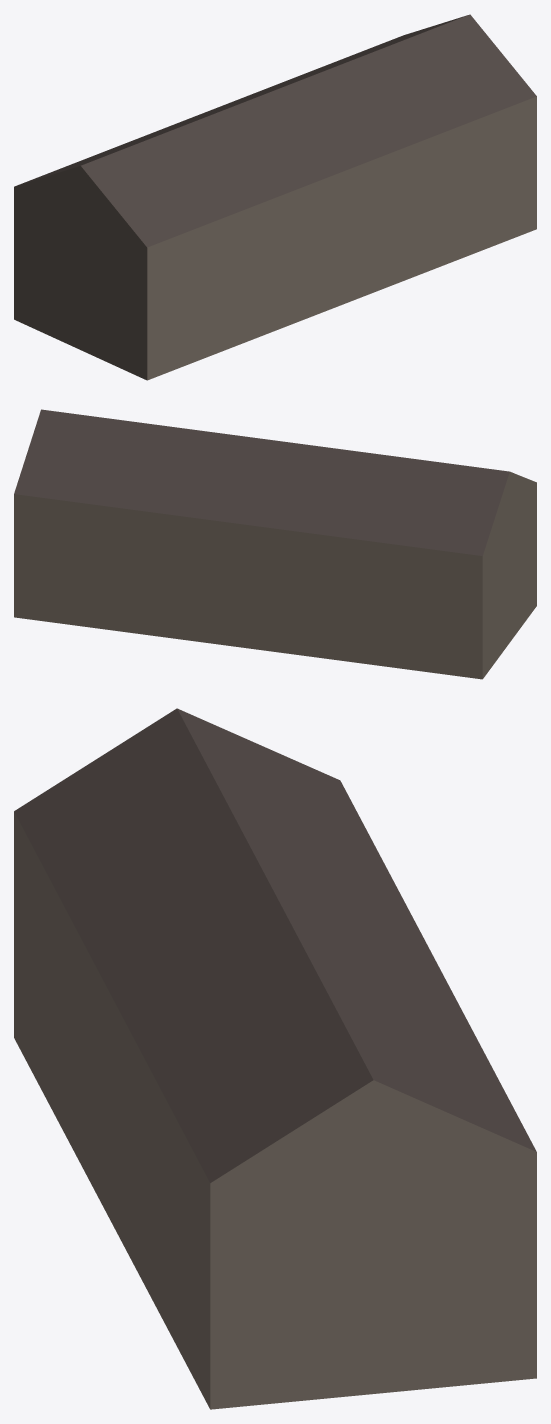
The picture shows the model from 3 angles, top to bottom: view 1: azimuth 30°, elevation 25°; view 2: azimuth 150°, elevation 25°; view 3: azimuth 270°, elevation 25°; orthographic projection. The views are drawn at different scales.
Visible parts, largest first — view 1: HP-w1200743808; view 2: HP-w1200743808; view 3: HP-w1200743808.
Part boxes in pixels (x1,y1,x2,y2): HP-w1200743808: (14, 14, 536, 380); HP-w1200743808: (14, 409, 536, 679); HP-w1200743808: (14, 708, 536, 1409).
Size of the model in its own units: 34.36 by 12.48 by 18.85.
